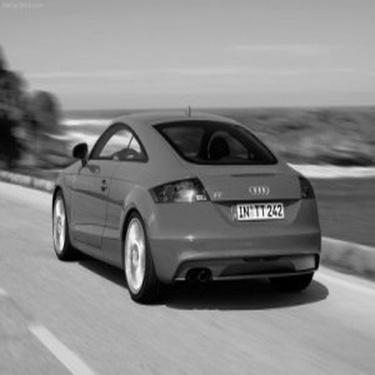car: (42, 94, 326, 310)
